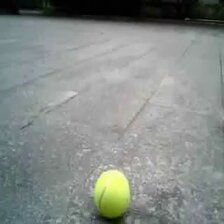tennis: (95, 170, 131, 216)
